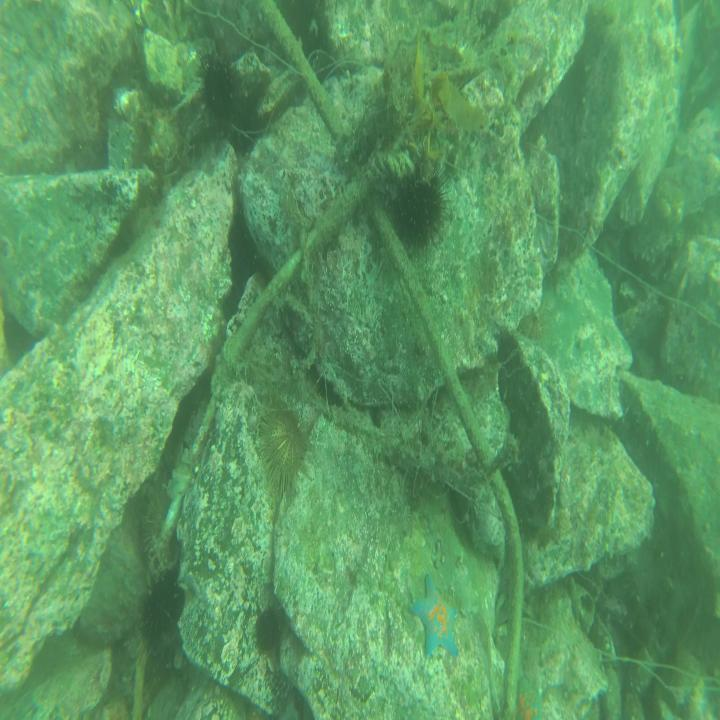echinus: (256, 398, 314, 494), (389, 168, 449, 251), (194, 46, 240, 125), (142, 574, 178, 636), (254, 604, 281, 656)
starfish: (409, 571, 462, 661), (510, 671, 546, 720)
